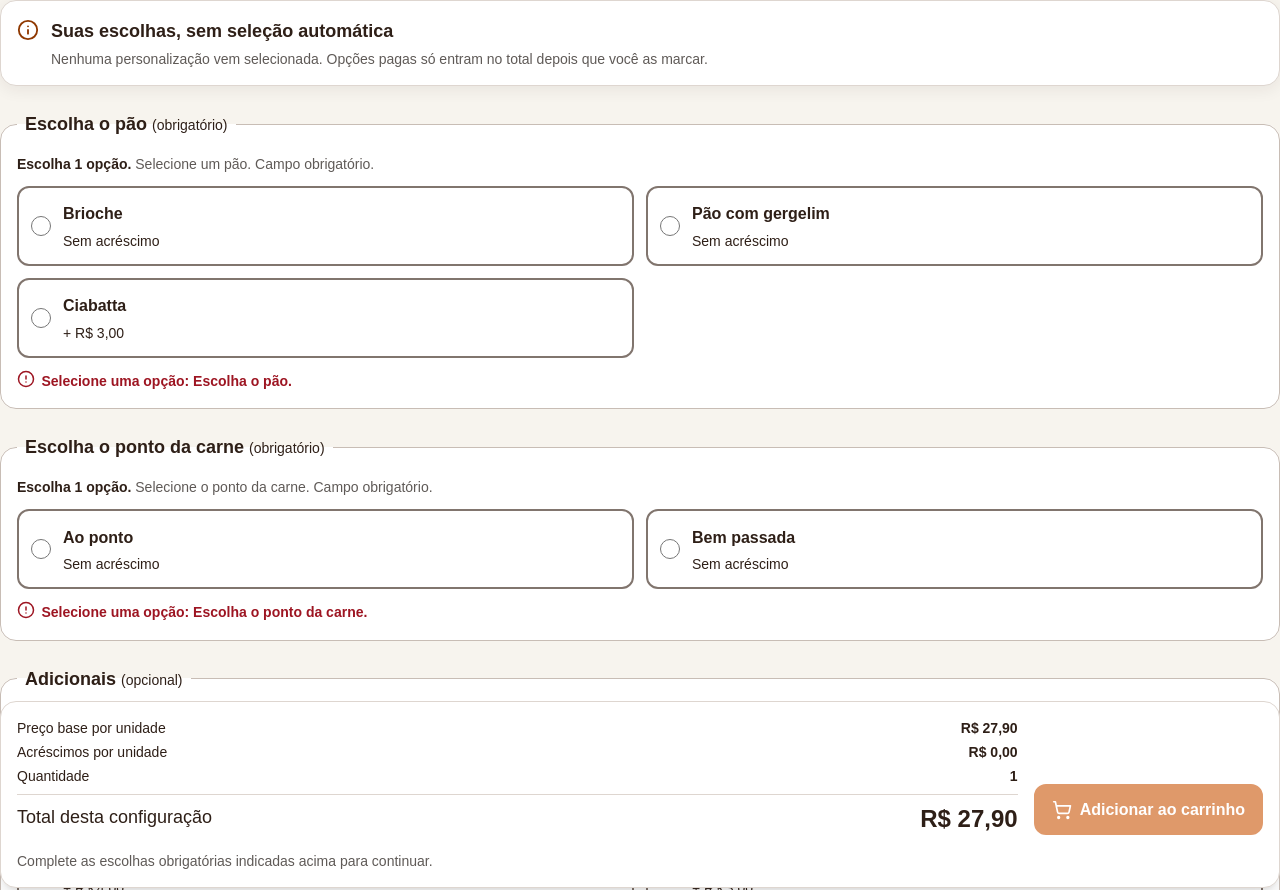
ProductCustomizer › mantém a ação indisponível até completar escolhas obrigatórias
Check: the heading "Suas escolhas, sem seleção automática" is shown, box [51,21,393,41]
Check: the text "Nenhuma personalização vem selecionada" is shown, box [51,51,708,67]
Click the radio button labelled "Brioche Sem acréscimo".
click(41, 226)  # box [31,216,51,236]
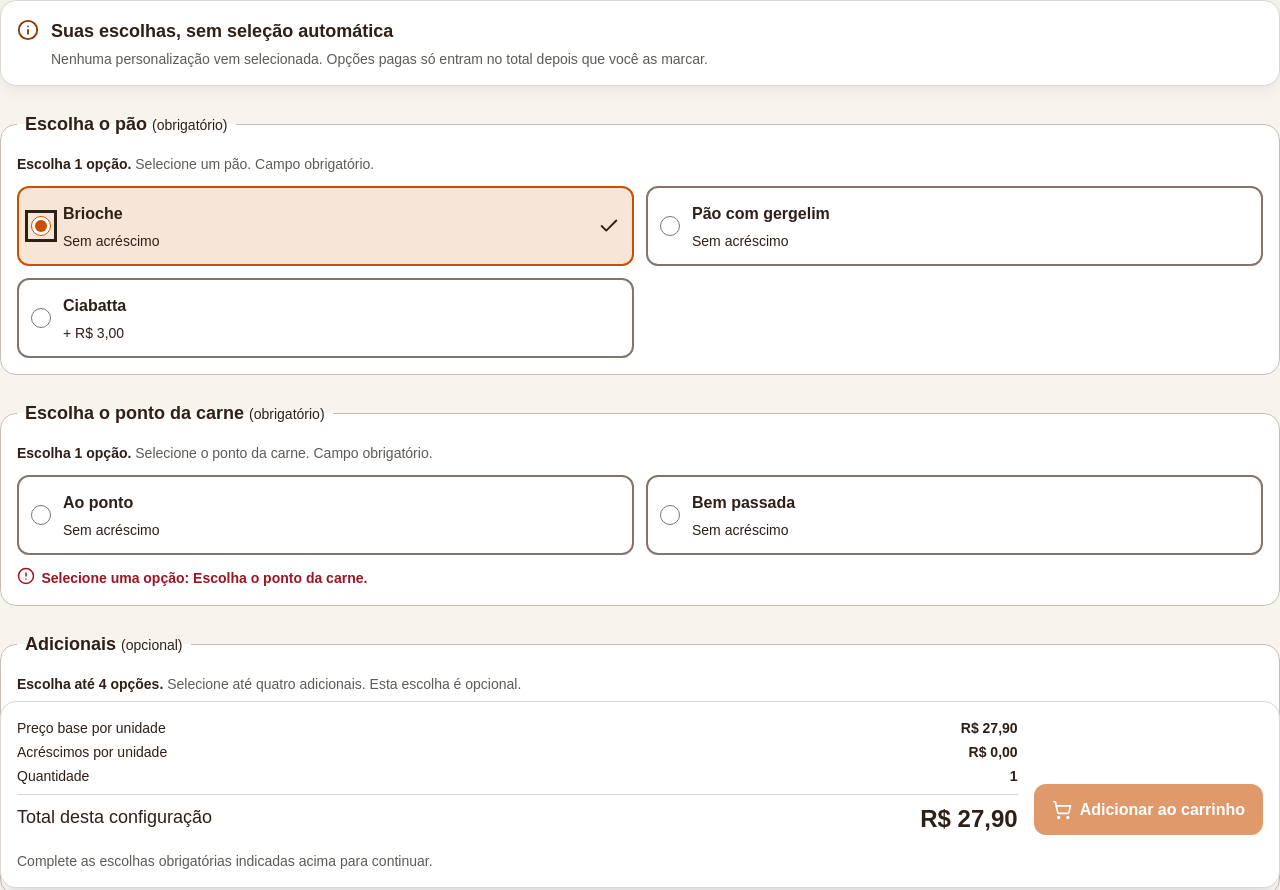
Check: the button "Adicionar ao carrinho" is disabled, box [1034,785,1263,835]
Click the radio button labelled "Ao ponto Sem acréscimo".
click(41, 515)  # box [31,505,51,525]
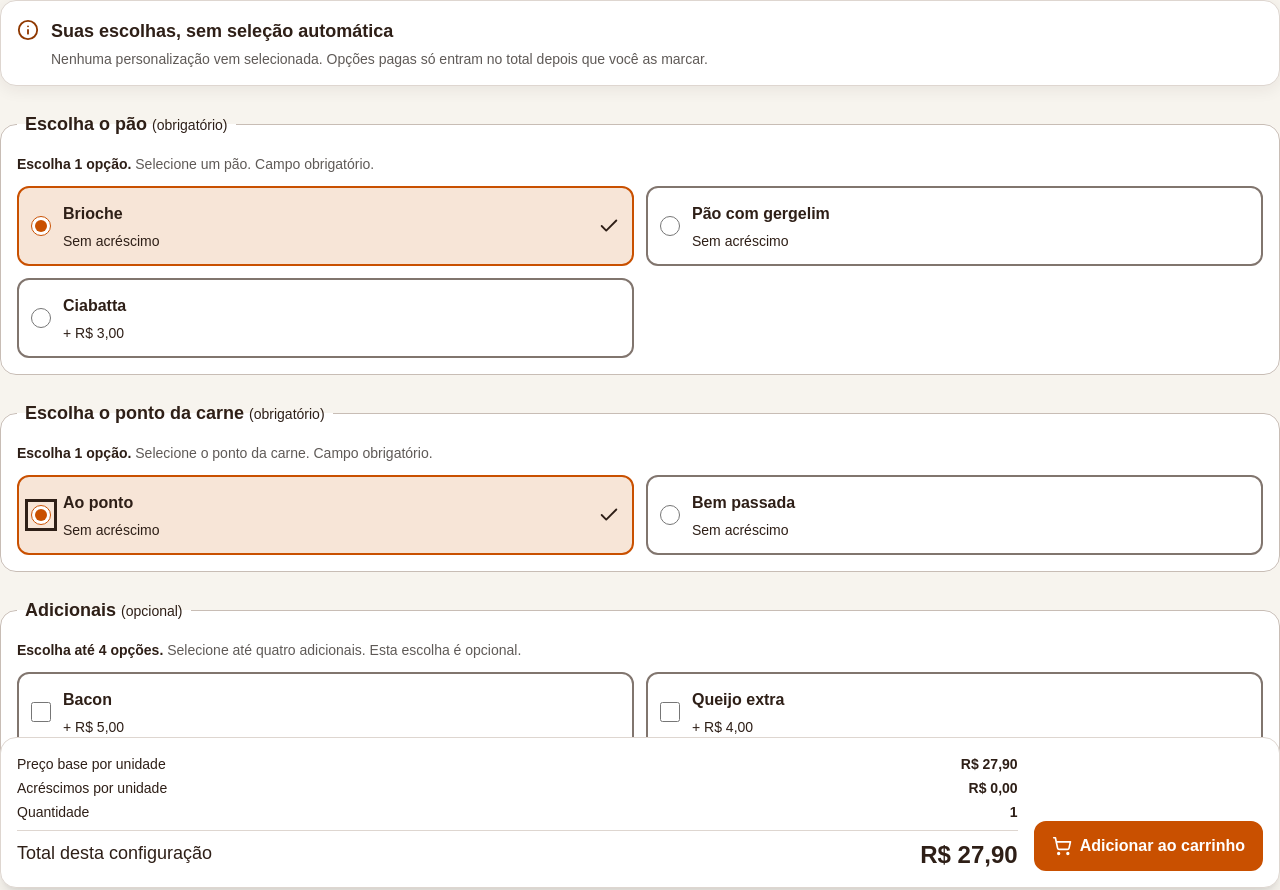
Check: the button "Adicionar ao carrinho" is enabled, box [1034,821,1263,871]
